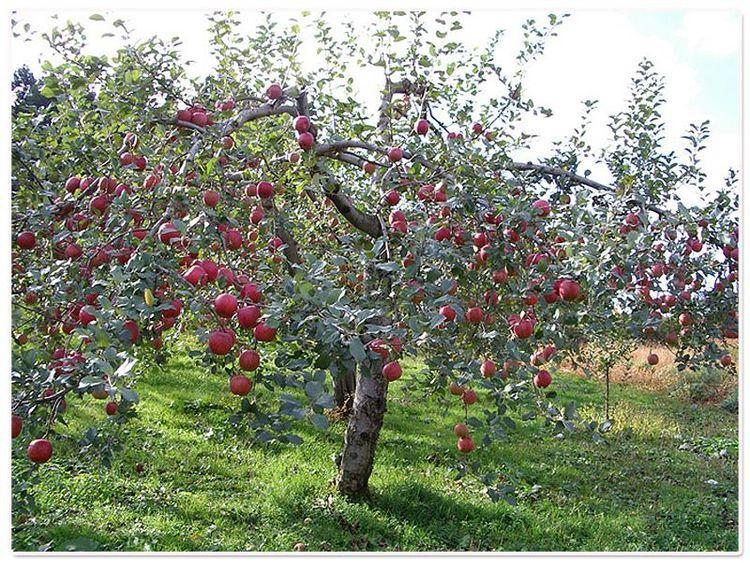apple: (27, 438, 53, 462), (556, 279, 582, 302), (213, 294, 237, 317), (237, 305, 261, 328), (211, 334, 234, 355), (239, 349, 260, 371), (230, 374, 252, 395), (454, 421, 473, 441), (534, 368, 552, 388), (457, 434, 476, 452)
